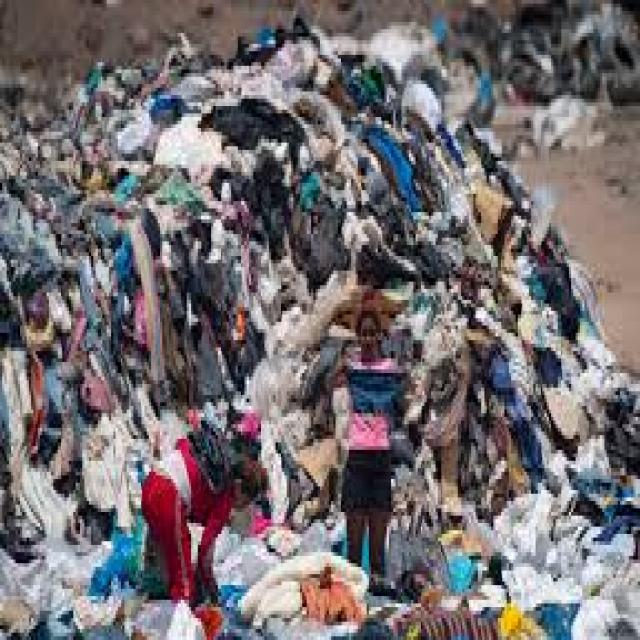Clothes -Biodegradable-: (0, 28, 640, 640)
